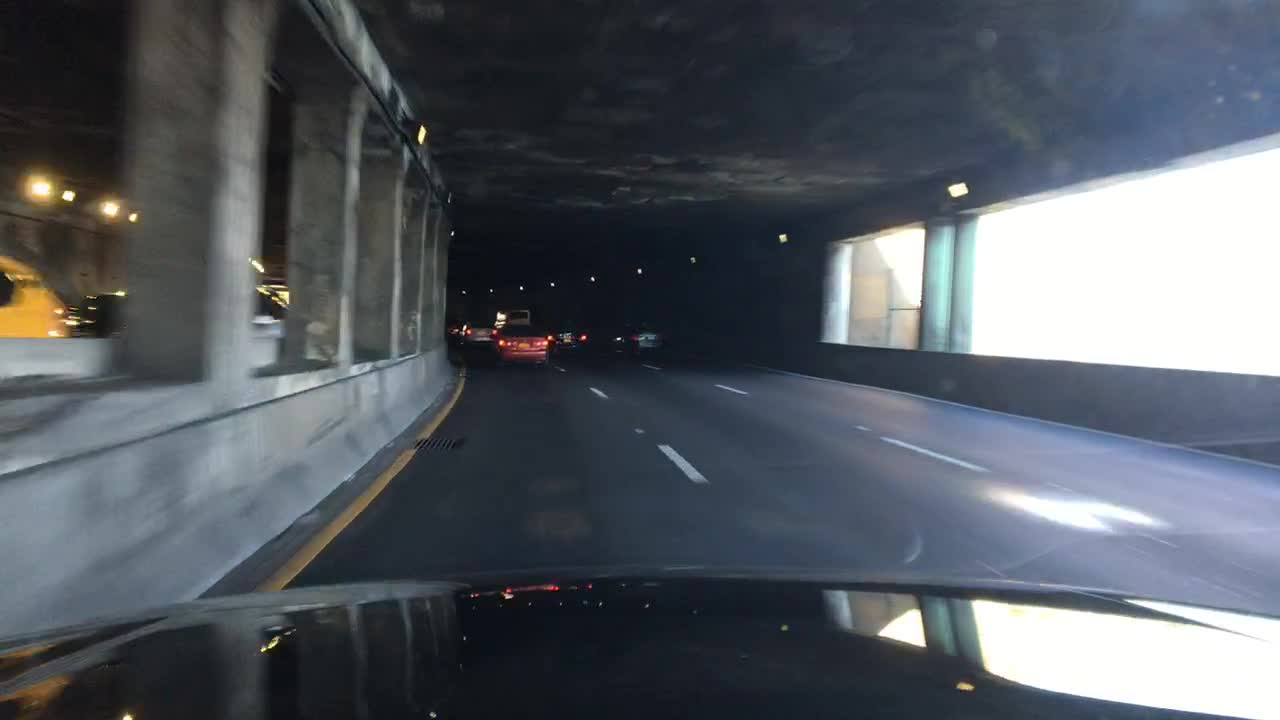car: (0, 248, 71, 339), (72, 288, 131, 340), (497, 324, 550, 366), (610, 321, 658, 354), (546, 322, 590, 354), (462, 316, 499, 351), (491, 307, 534, 331), (443, 319, 465, 349)
